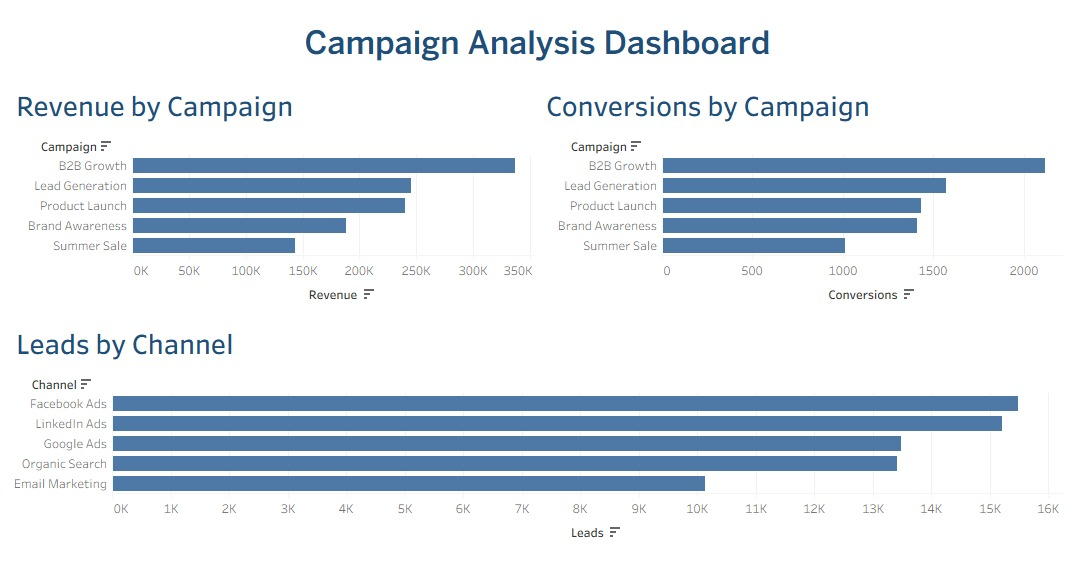

The dashboard page shown, as its layout file describes it:
{"tool":"tableau","page":{"name":"Campaign Analysis","canvas":[1000,1000],"units":"permille","ordinal":0},"visuals":[{"type":"text","box":[7.4,13.7,985.1,123.3]},{"type":"worksheet","title":"Revenue by Campaign","mark":"Automatic","rows":["Campaign"],"cols":["Revenue"],"box":[7.4,137,492.6,407.5]},{"type":"worksheet","title":"Conversions by Campaign","mark":"Automatic","rows":["Campaign"],"cols":["Conversions"],"box":[500,137,492.6,407.5]},{"type":"worksheet","title":"Leads by Channel","mark":"Automatic","rows":["Channel"],"cols":["Leads"],"box":[7.4,544.5,985.1,441.8]}]}

Visuals, with their boxes on the dashboard's canvas, which has no fixed pixel size, in thousandths of its width and height (x1, y1, x2, y2). These are canvas units, not pixel positions in the 1075x580 screenshot, which may show the page scaled, cropped or inside an application window:
text: [7,14,992,137]
"Revenue by Campaign" worksheet: [7,137,500,544]
"Conversions by Campaign" worksheet: [500,137,993,544]
"Leads by Channel" worksheet: [7,544,992,986]
